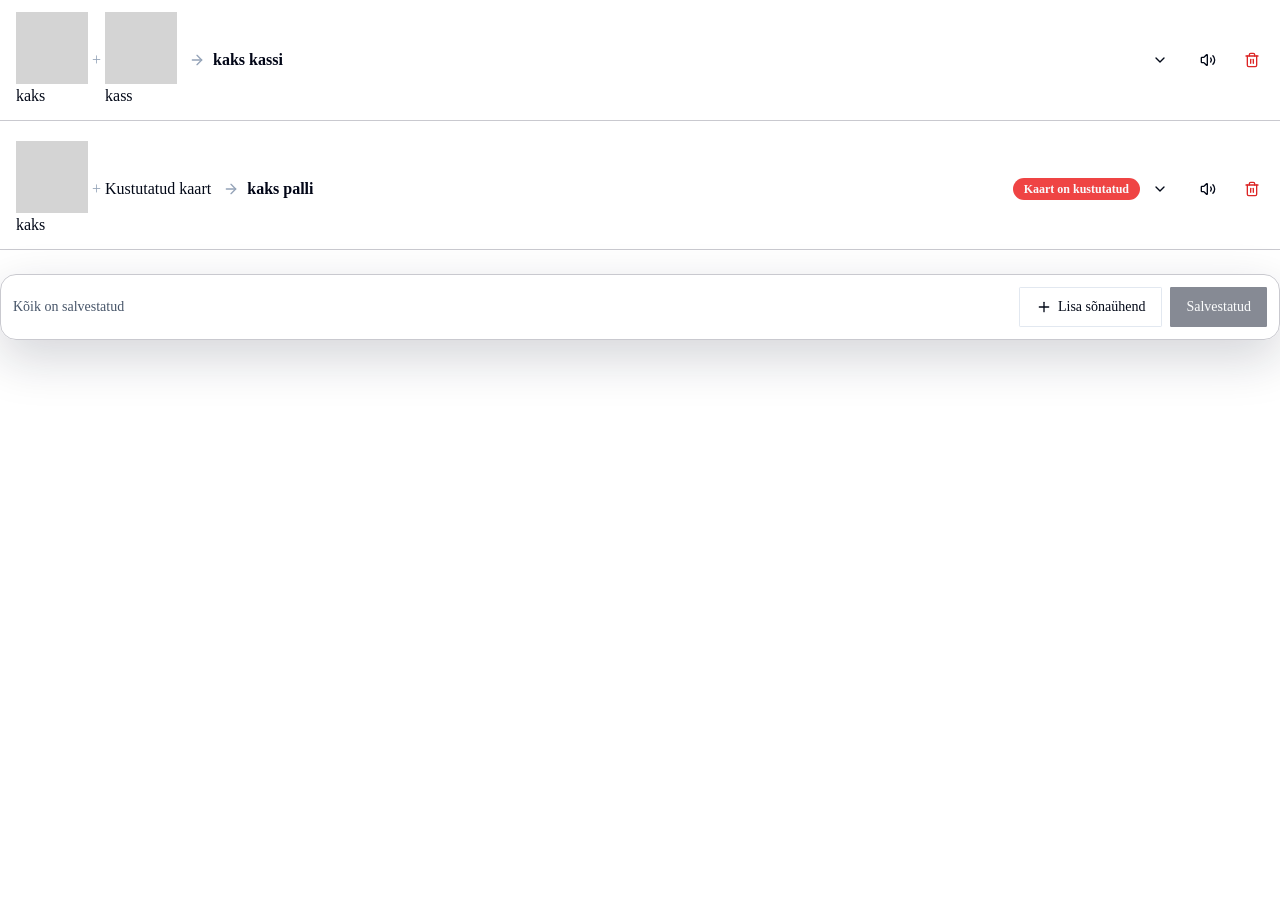
Test: compounds editor › makes a new compound from the cards tapped in order
Click the button "Lisa sõnaühend": [1091, 307] box left=1019, top=287, right=1162, bottom=327
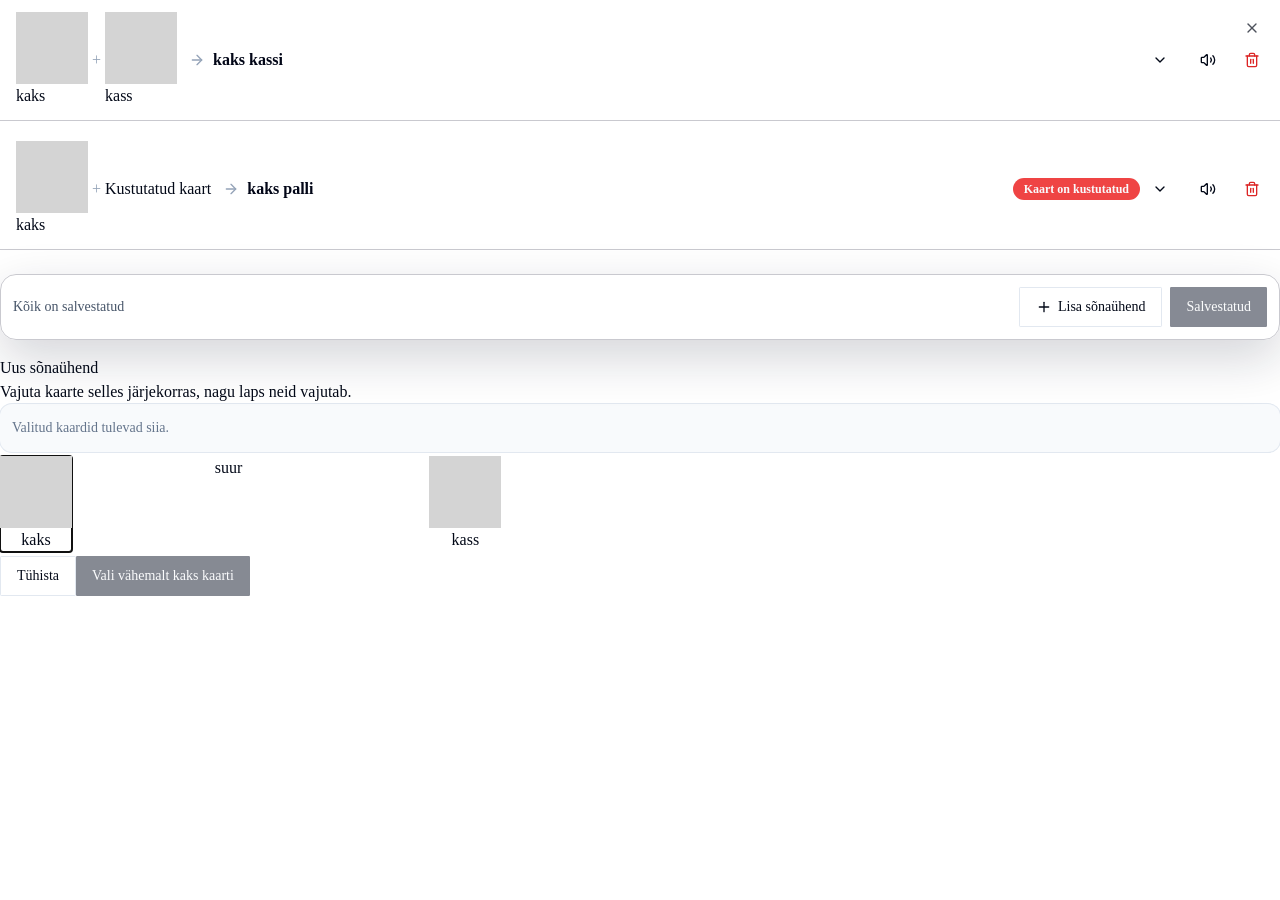
Result: the button "Vali vähemalt kaks kaarti" is disabled at left=76, top=556, right=250, bottom=596
Click the button "kaks": [36, 504] box left=0, top=456, right=72, bottom=552
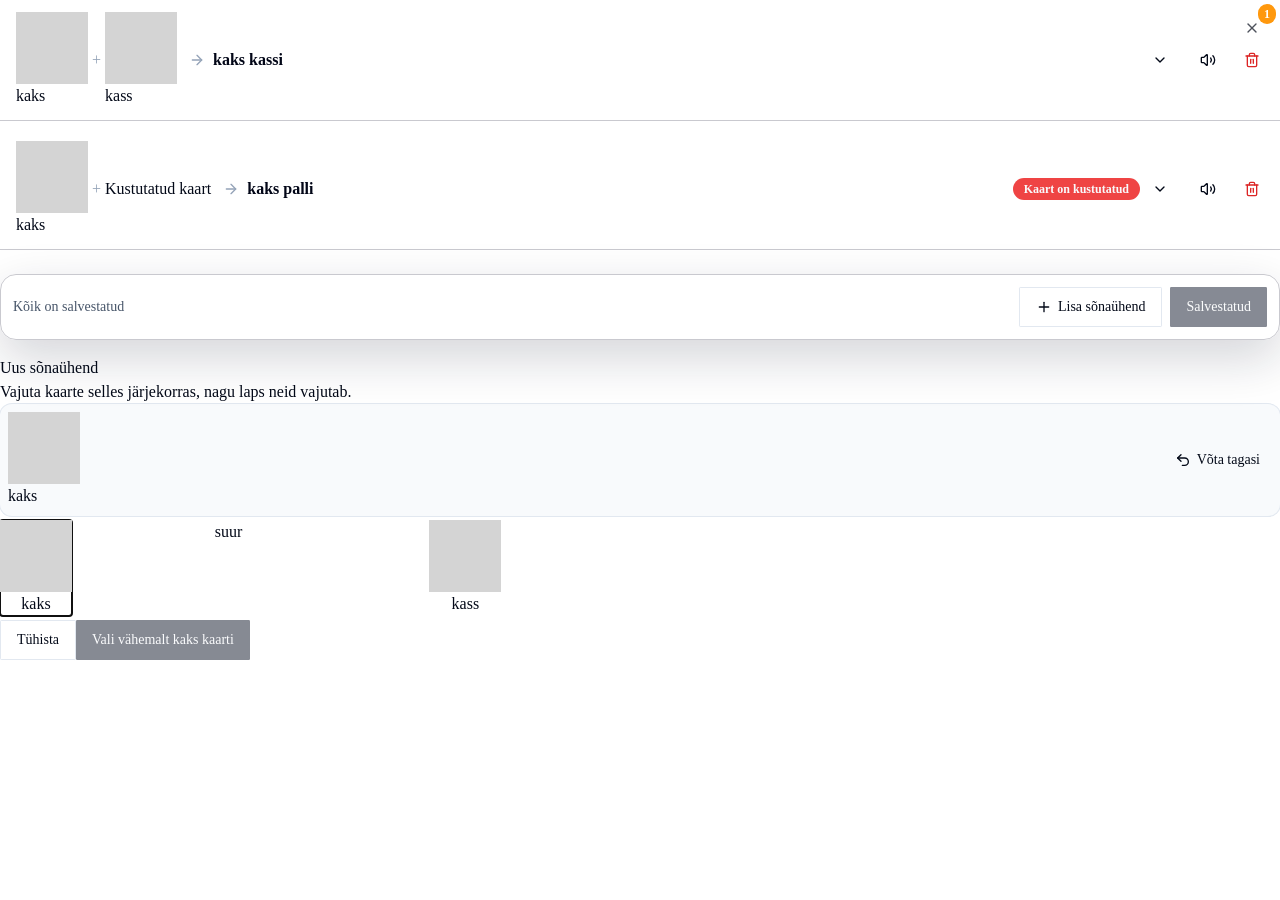
Click the button "suur": [228, 532] box left=215, top=520, right=242, bottom=544
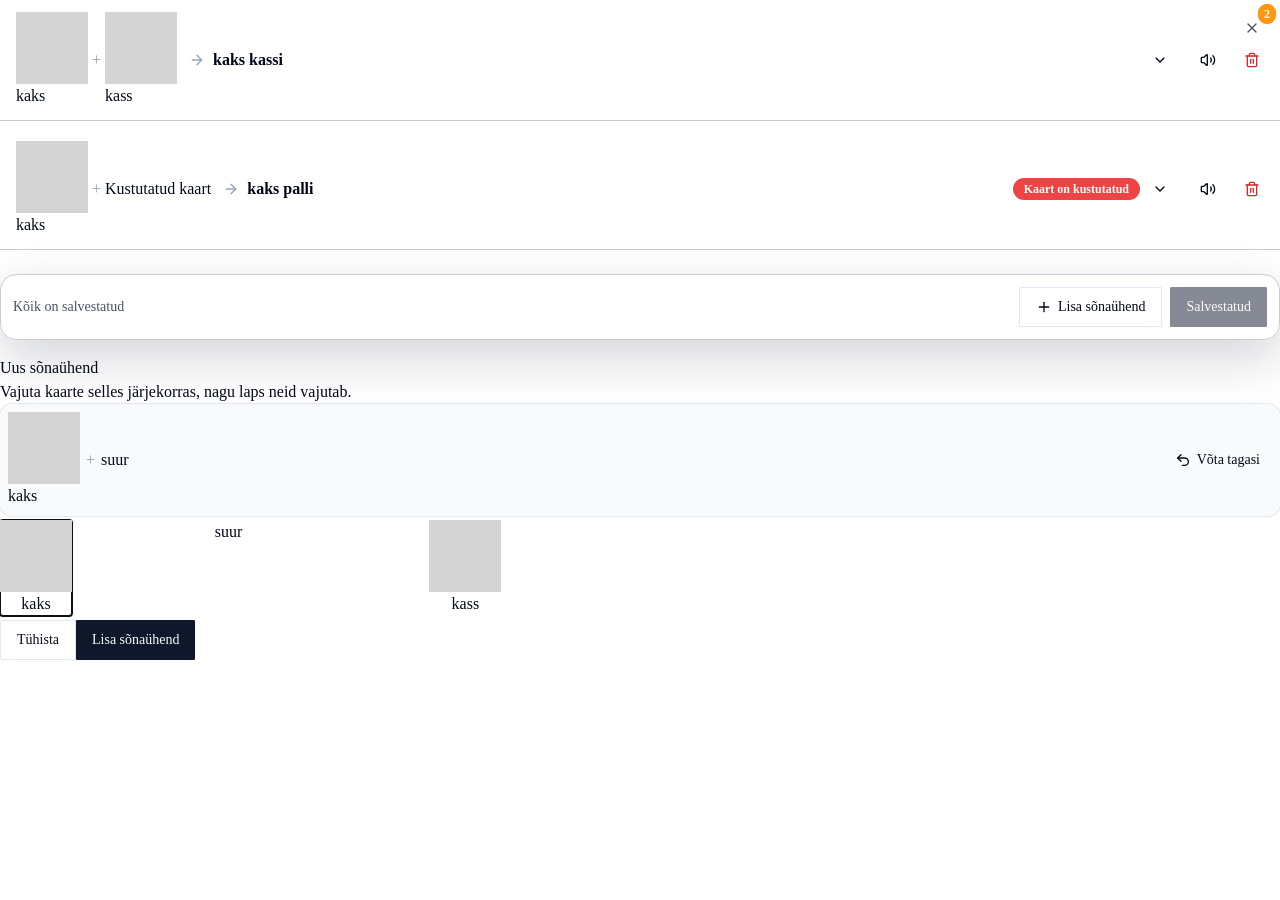
Click the button "kass": [465, 568] box left=429, top=520, right=501, bottom=616
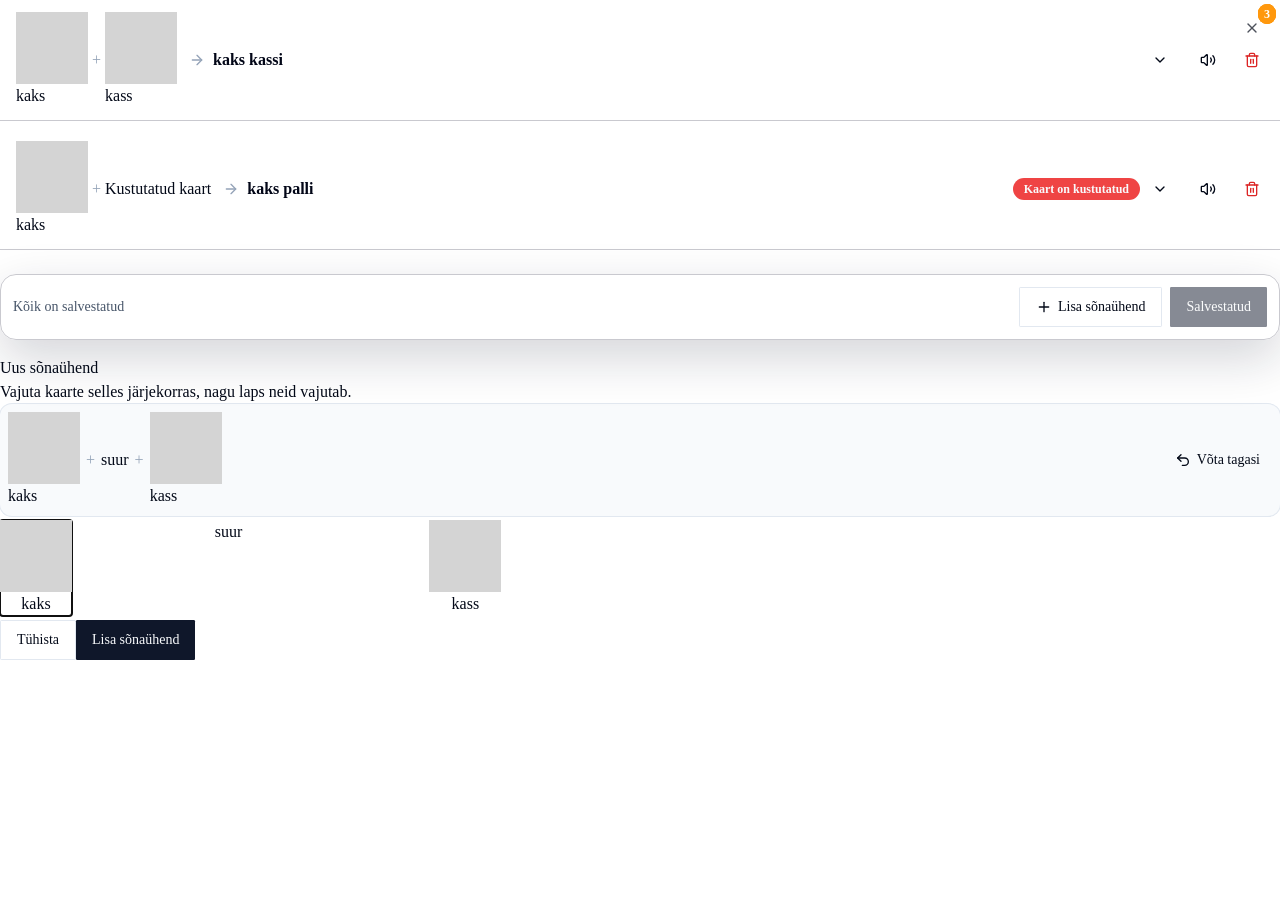
Click the button "Lisa sõnaühend" below "Uus sõnaühend": [136, 640] box left=76, top=620, right=196, bottom=660
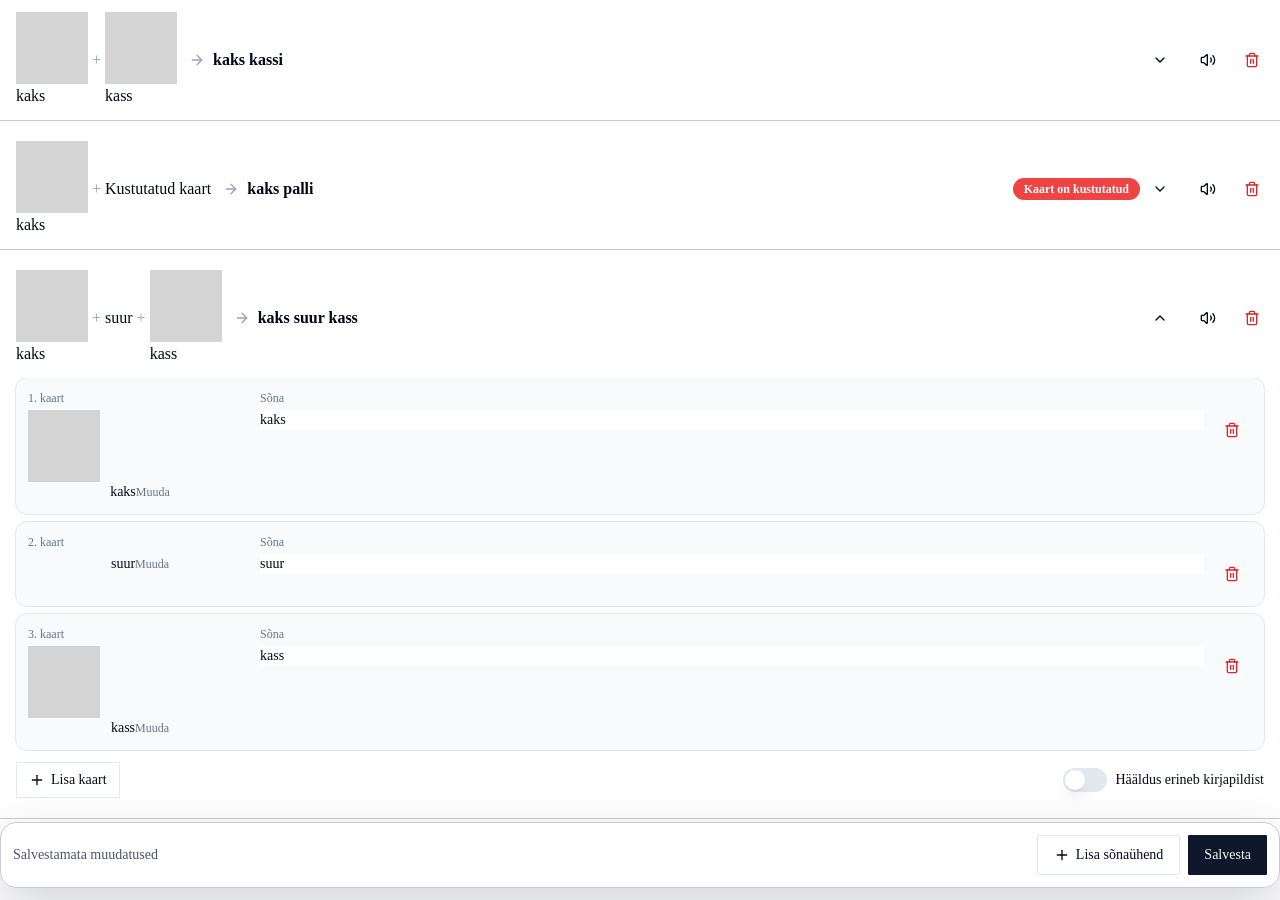
Expected: the button "Salvesta" is shown, left=1188, top=835, right=1267, bottom=875
Result: the dialog is gone
Result: the button named "kaks + suur + kass: kaks suur kass" is shown at left=0, top=258, right=1184, bottom=378
